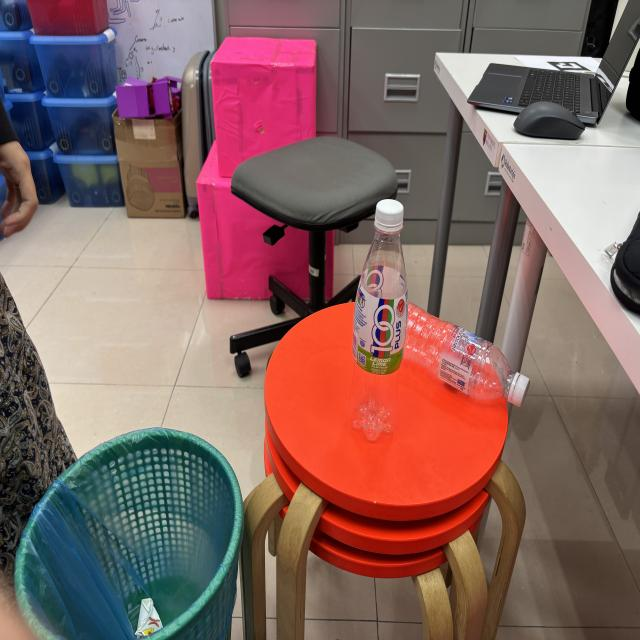dustbin: (8, 406, 246, 640)
plastic_bottle: (344, 188, 415, 460), (411, 303, 532, 418)
